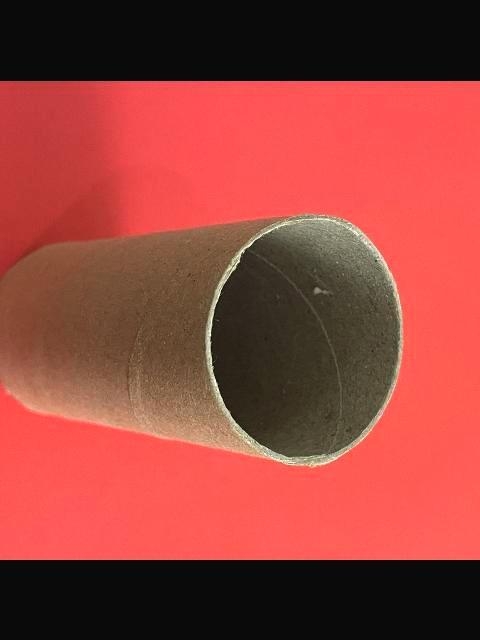tissueroll: (0, 210, 406, 468)
